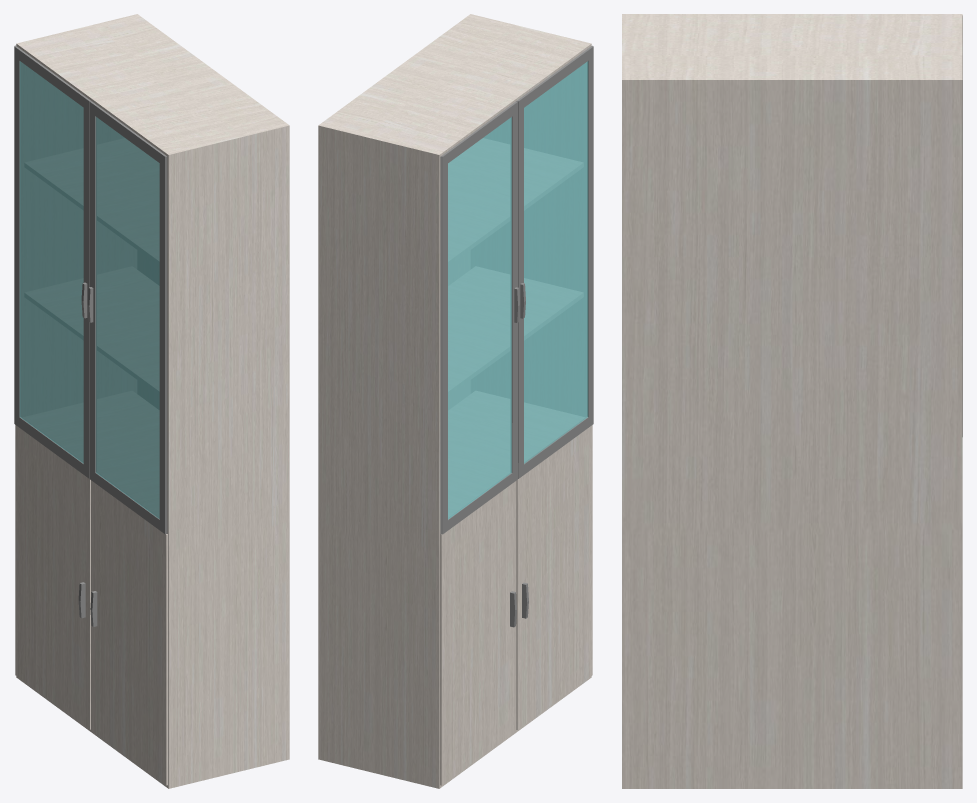
File: CK-guizi0008-CJBZ.FBX
3 renders of one model, left to right at view 1: azimuth 30°, elevation 25°; view 2: azimuth 150°, elevation 25°; view 3: azimuth 270°, elevation 25°, orthographic. The views are drawn at different scales.
Parts seen in each view (by area): view 1: CK-guizi0008-CJBZ; view 2: CK-guizi0008-CJBZ; view 3: CK-guizi0008-CJBZ.
Part boxes in pixels (x1,y1,x2,y2): CK-guizi0008-CJBZ: (14, 14, 289, 788); CK-guizi0008-CJBZ: (318, 14, 593, 788); CK-guizi0008-CJBZ: (622, 14, 962, 788).
Size of the model in its own units: 0.5676 by 2.69 by 1.17.
Materials: 3 (1 with a texture image).
